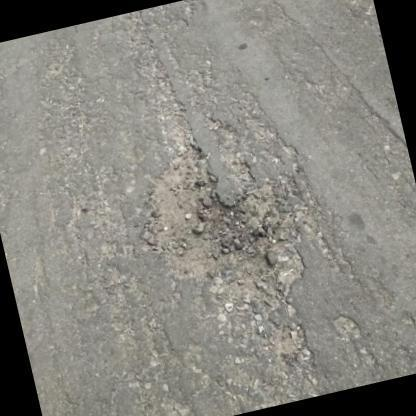pothole: (141, 140, 319, 296)
